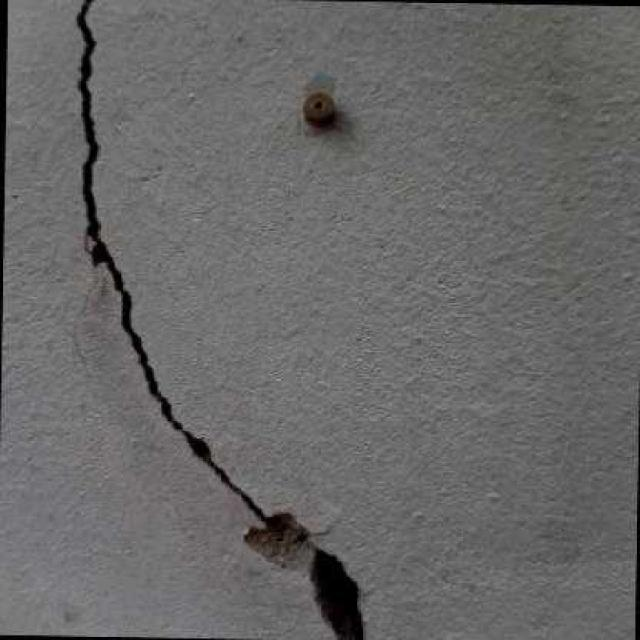D00: (71, 0, 366, 640)
